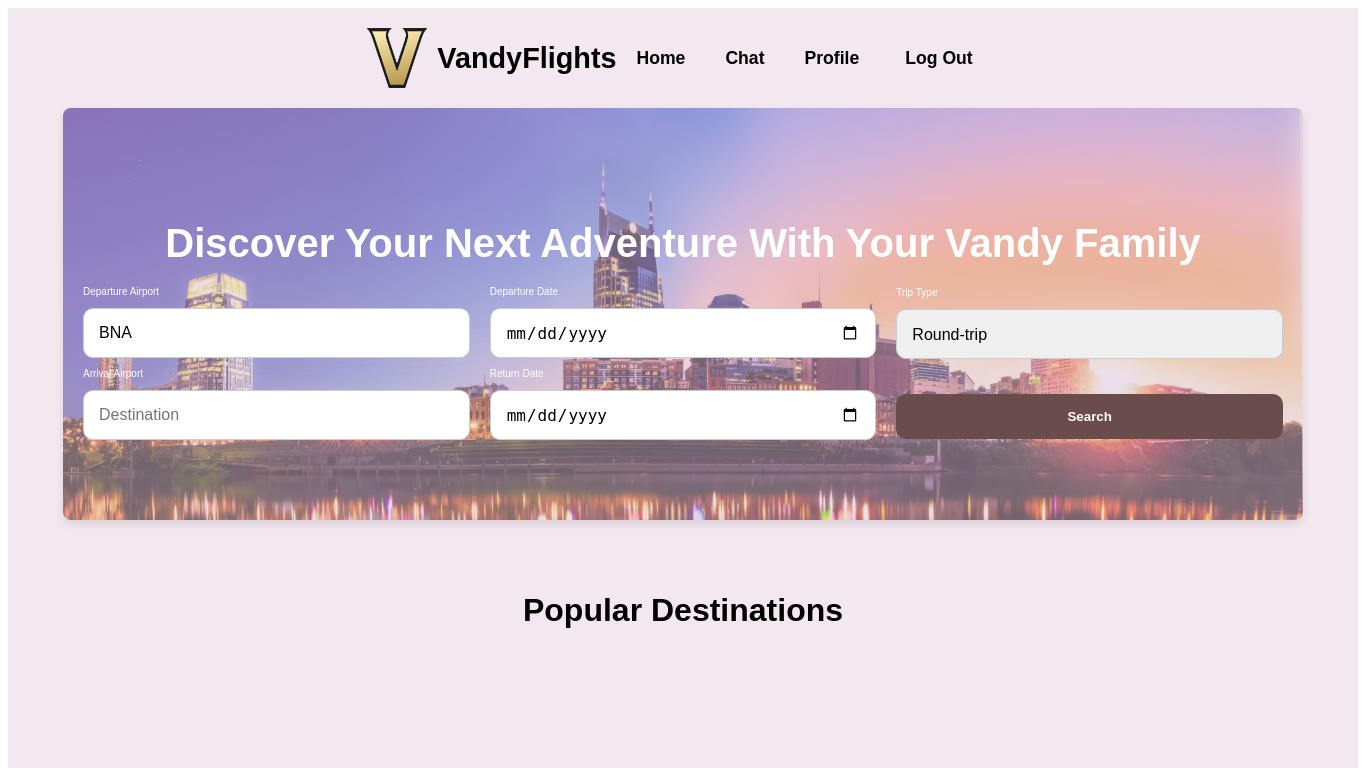
Test: MainPage › clears return date when one-way is selected
Step 1. Select "One-way" in the dropdown showing "Round-trip" → (1090, 334), box [896,309,1283,359]
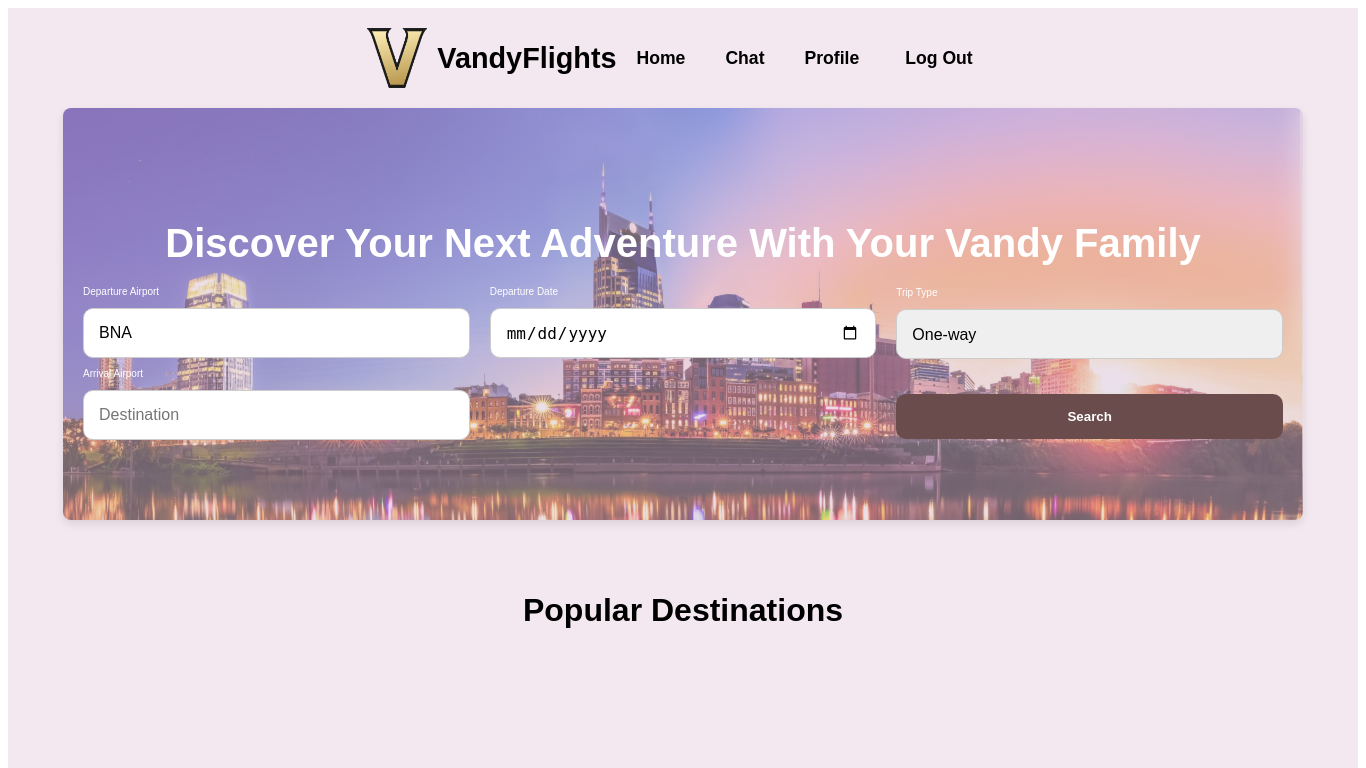
Now the label labelled "Return Date" is gone
